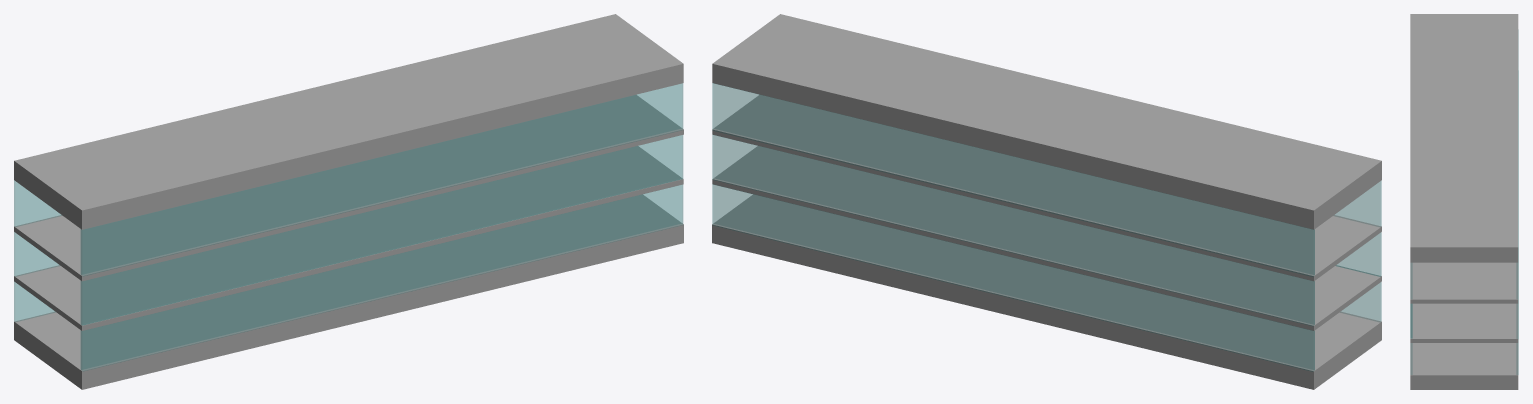
File: house5.fbx
3 views of the same model, side by side, from view 1: azimuth 30°, elevation 25°; view 2: azimuth 150°, elevation 25°; view 3: azimuth 270°, elevation 25° (orthographic). The views are drawn at different scales.
Visible parts, largest first — view 1: fifthHouse; view 2: fifthHouse; view 3: fifthHouse.
Part boxes in pixels (x1,y1,x2,y2): fifthHouse: (14, 14, 683, 389); fifthHouse: (712, 14, 1381, 389); fifthHouse: (1410, 14, 1518, 389).
Bounding box in the file's own units: 0.7441 × 0.212 × 0.1462.
